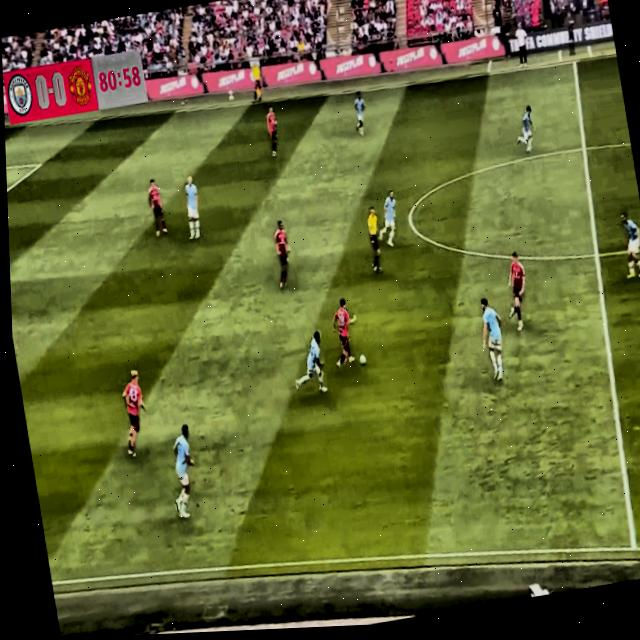ball: (354, 351, 371, 372)
players: (161, 414, 207, 526), (112, 358, 160, 462), (472, 288, 512, 389), (285, 323, 334, 400), (326, 289, 367, 376), (499, 242, 536, 338), (176, 164, 210, 243), (268, 214, 299, 293), (612, 203, 640, 284), (509, 99, 542, 161), (142, 168, 169, 240), (375, 186, 404, 253), (260, 97, 287, 168), (348, 87, 371, 137)
refree: (359, 196, 391, 285), (242, 39, 270, 117)
